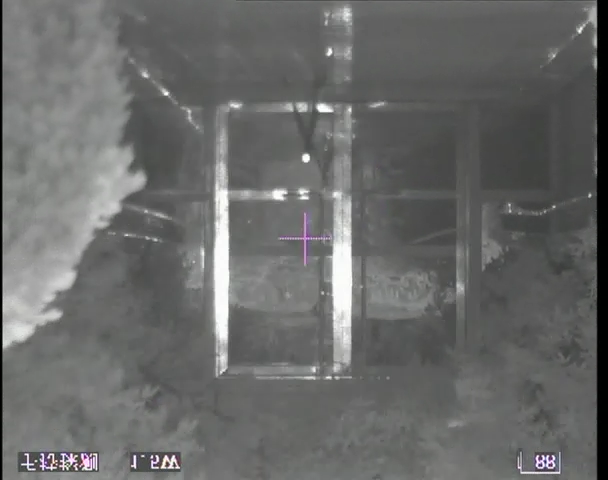my: (301, 152, 312, 165)
